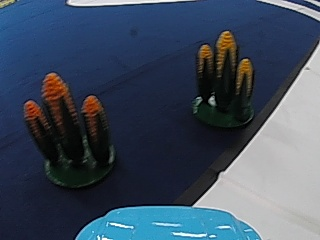corn: (26, 77, 114, 187), (192, 28, 256, 130)
